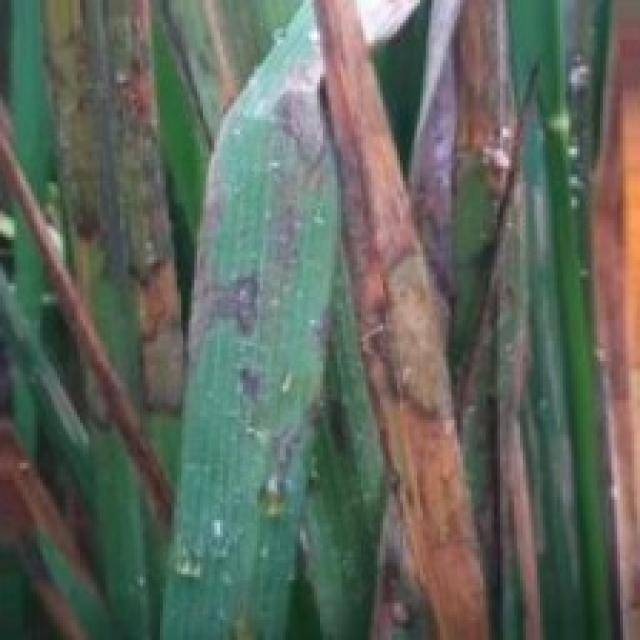Bacterial_Blight: (306, 0, 499, 640), (0, 104, 183, 531), (584, 0, 640, 640), (0, 421, 119, 617), (121, 246, 194, 417), (116, 0, 163, 130), (20, 580, 83, 636)
Brown_Spot: (267, 61, 344, 167), (188, 246, 267, 348)
